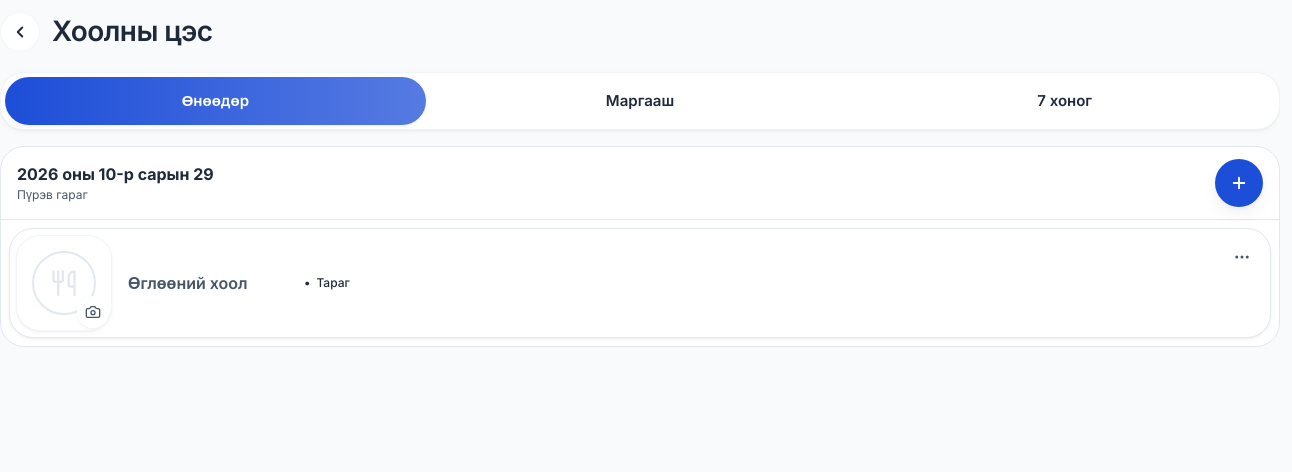
Test case: the menu as a spreadsheet › puts the sitting's controls on the card a teacher reads
Expected: the file field named "Зураг нэмэх" is shown, [77,296,109,328]
Click the button named "Өглөөний хоол — үйлдэл".
click(1242, 257)  # box [1220,235,1264,279]
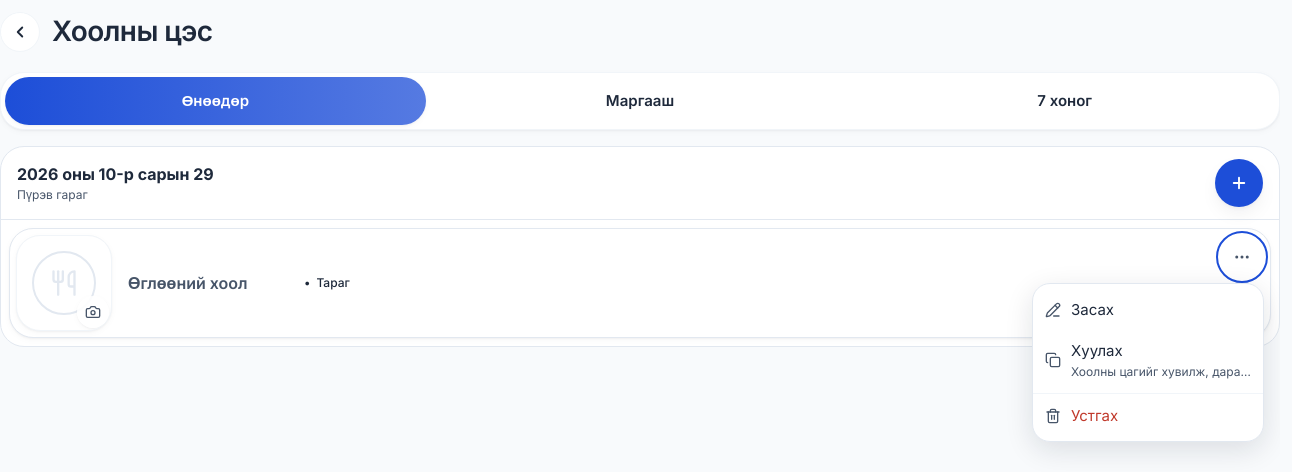
Now the menu item "Засах" is shown, box [1033,288,1263,332]
Now the menu item "Хуулах Хоолны цагийг хувилж, дараа нь цагийг нь солино" is shown, box [1033,332,1263,388]
Now the menu item "Устгах" is shown, box [1033,392,1263,436]
